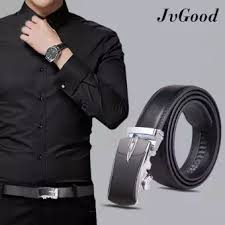F_belt: (2, 180, 96, 202)
